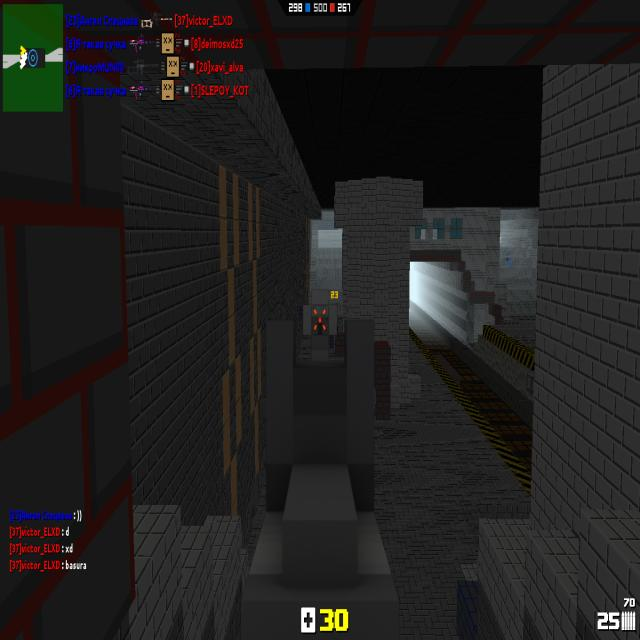enemy: (506, 250, 512, 271), (499, 232, 502, 246)
